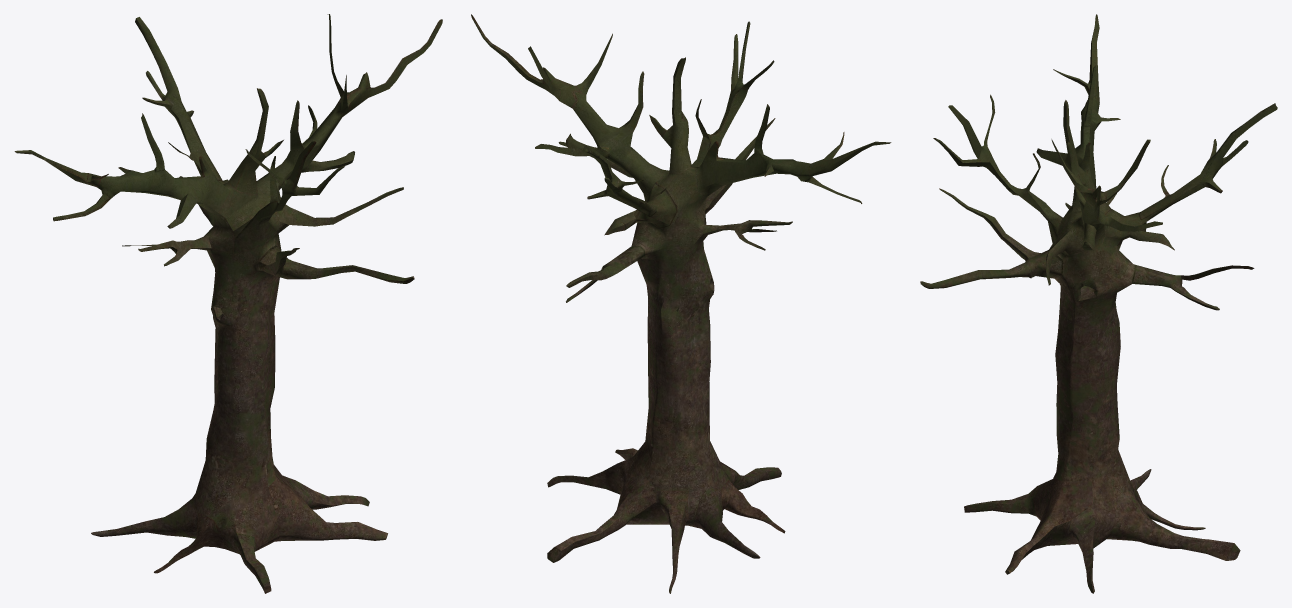
File: tree_dead.gltf
The picture shows the model from 3 angles, left to right: view 1: azimuth 30°, elevation 25°; view 2: azimuth 150°, elevation 25°; view 3: azimuth 270°, elevation 25°; orthographic projection. The views are drawn at different scales.
Visible parts, largest first — view 1: Tree; view 2: Tree; view 3: Tree.
Boxes of the visible parts, x1,y1,x2,y2 form: Tree: (14,14,442,593); Tree: (471,14,891,593); Tree: (920,14,1277,593).
Bounding box in the file's own units: 0.9018 × 0.9938 × 0.6859.
Materials: 1 (1 with a texture image).
